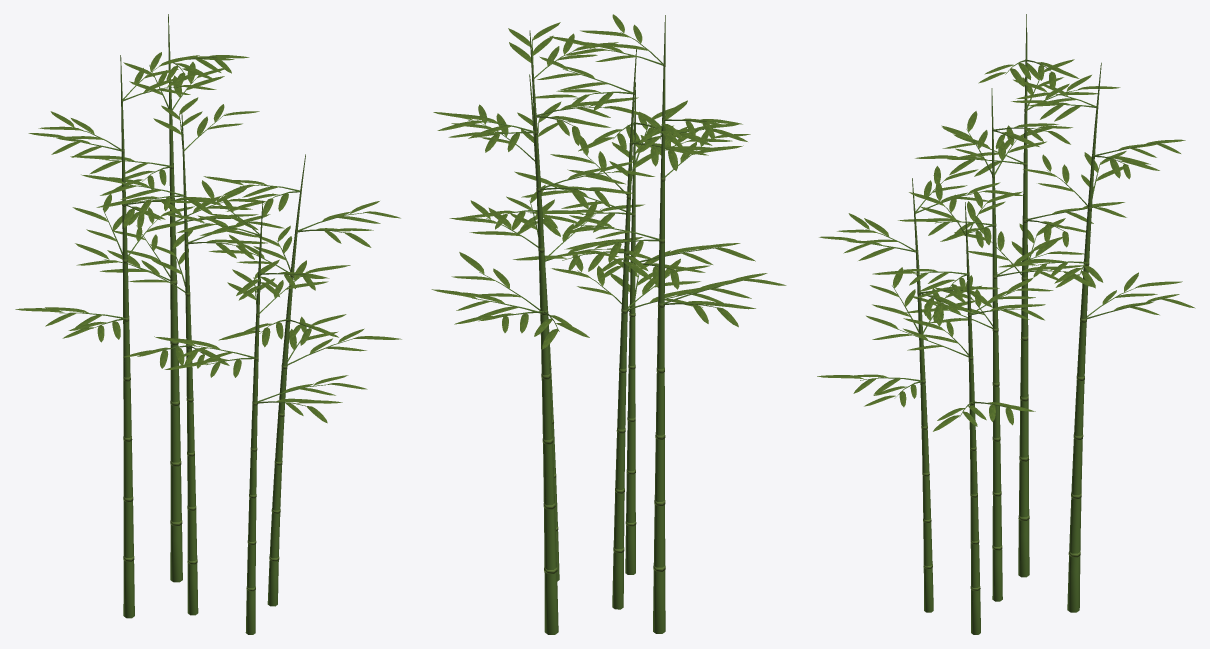
The model's file is bamboo.glb.
3 renders of one model, left to right at view 1: azimuth 30°, elevation 25°; view 2: azimuth 150°, elevation 25°; view 3: azimuth 270°, elevation 25°, orthographic. The views are drawn at different scales.
Parts seen in each view (by area): view 1: Stems, Foliage; view 2: Foliage, Stems; view 3: Stems, Foliage.
Boxes of the visible parts, left/top/right/bottom form: Stems: left=59, top=14, right=364, bottom=634; Foliage: left=15, top=52, right=401, bottom=423; Foliage: left=431, top=14, right=786, bottom=349; Stems: left=468, top=15, right=747, bottom=634; Stems: left=855, top=14, right=1166, bottom=634; Foliage: left=817, top=59, right=1195, bottom=431.
Bounding box in the file's own units: 1.41 × 2.35 × 1.45.
2 materials, 1 textured.
